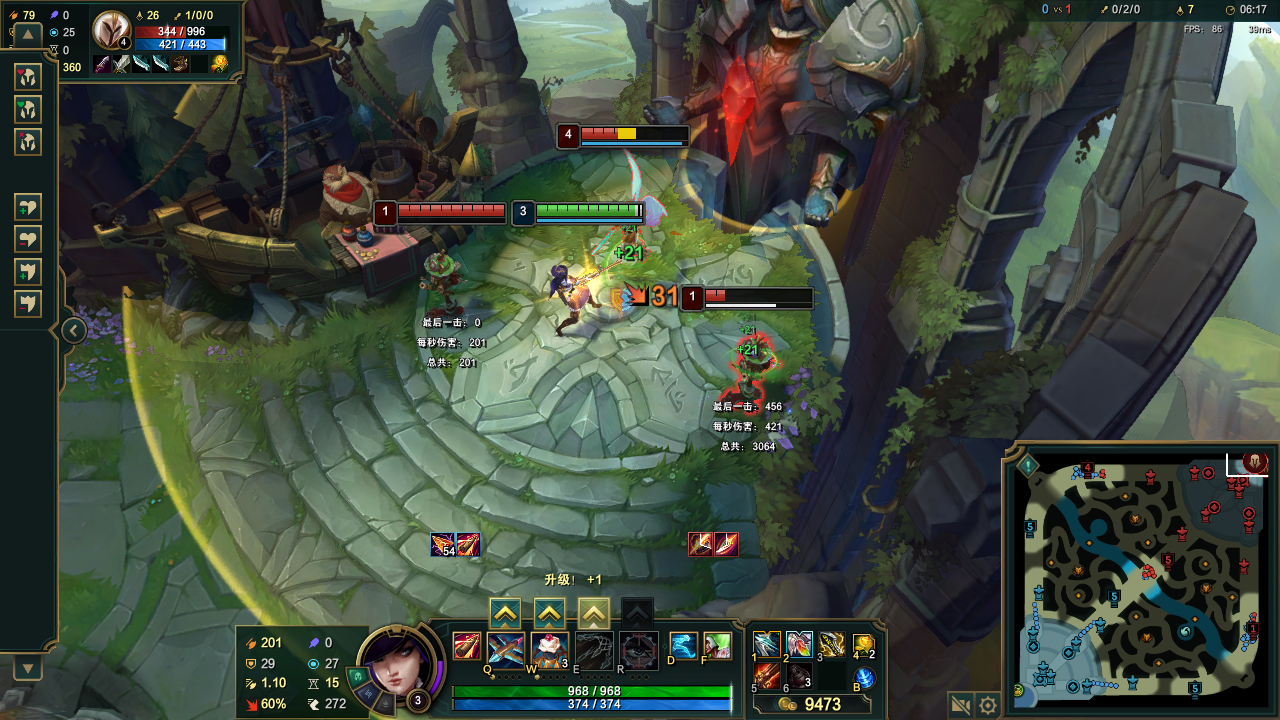DFYX: (400, 203, 504, 217), (584, 126, 619, 139), (708, 289, 727, 302)
